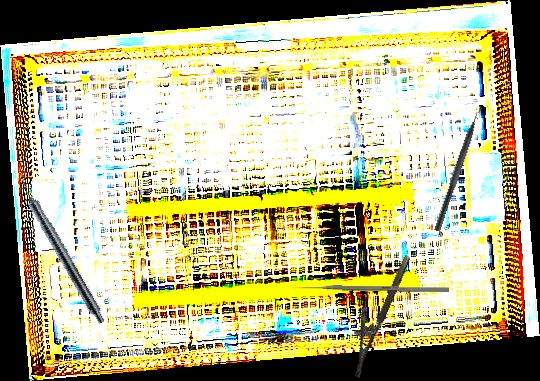Chopper: (434, 102, 490, 235)
Handpiece: (13, 173, 110, 326)
Needle Holder: (335, 247, 413, 379)
Pusher: (291, 284, 450, 293)
